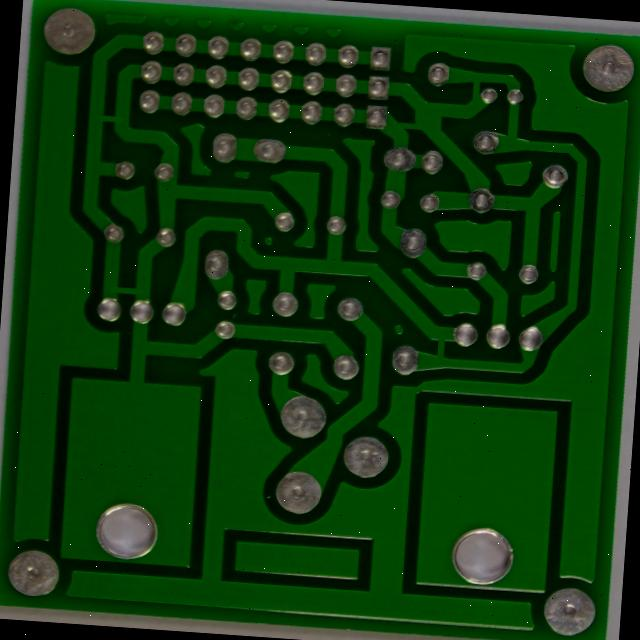short: (88, 266, 143, 307), (415, 316, 455, 369), (76, 92, 127, 132), (385, 102, 436, 133), (456, 64, 493, 104)
